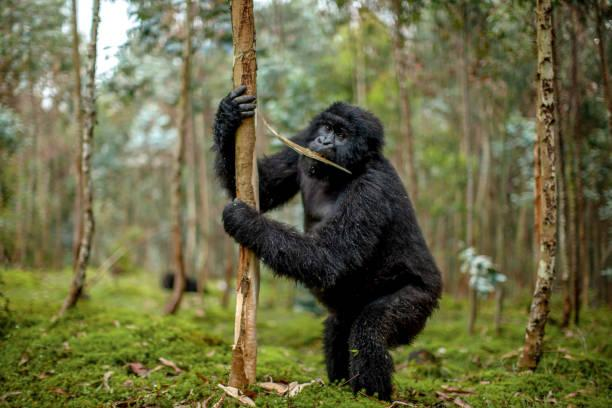goriile_montagne: (217, 70, 439, 400)
